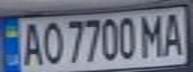0: (118, 14, 139, 61), (100, 15, 121, 61)
7: (81, 16, 103, 63), (63, 16, 84, 64)
A: (157, 9, 187, 57), (18, 19, 45, 67)
M: (136, 11, 166, 58)
O: (39, 18, 66, 65)
